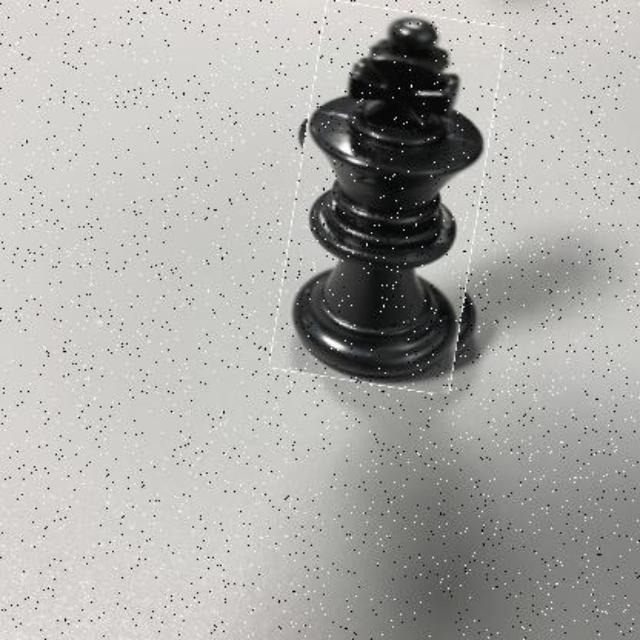black-king: (283, 5, 492, 389)
